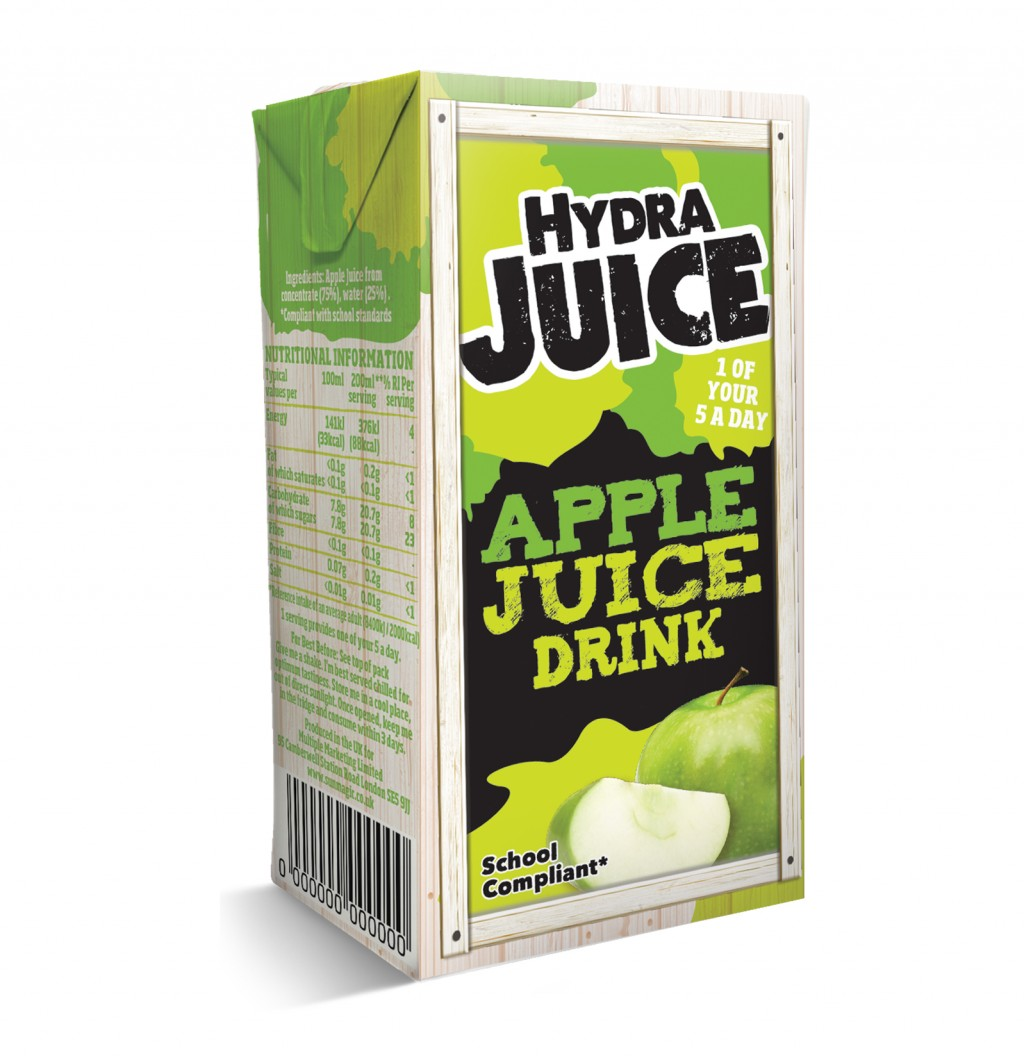carton: (229, 36, 860, 1009)
